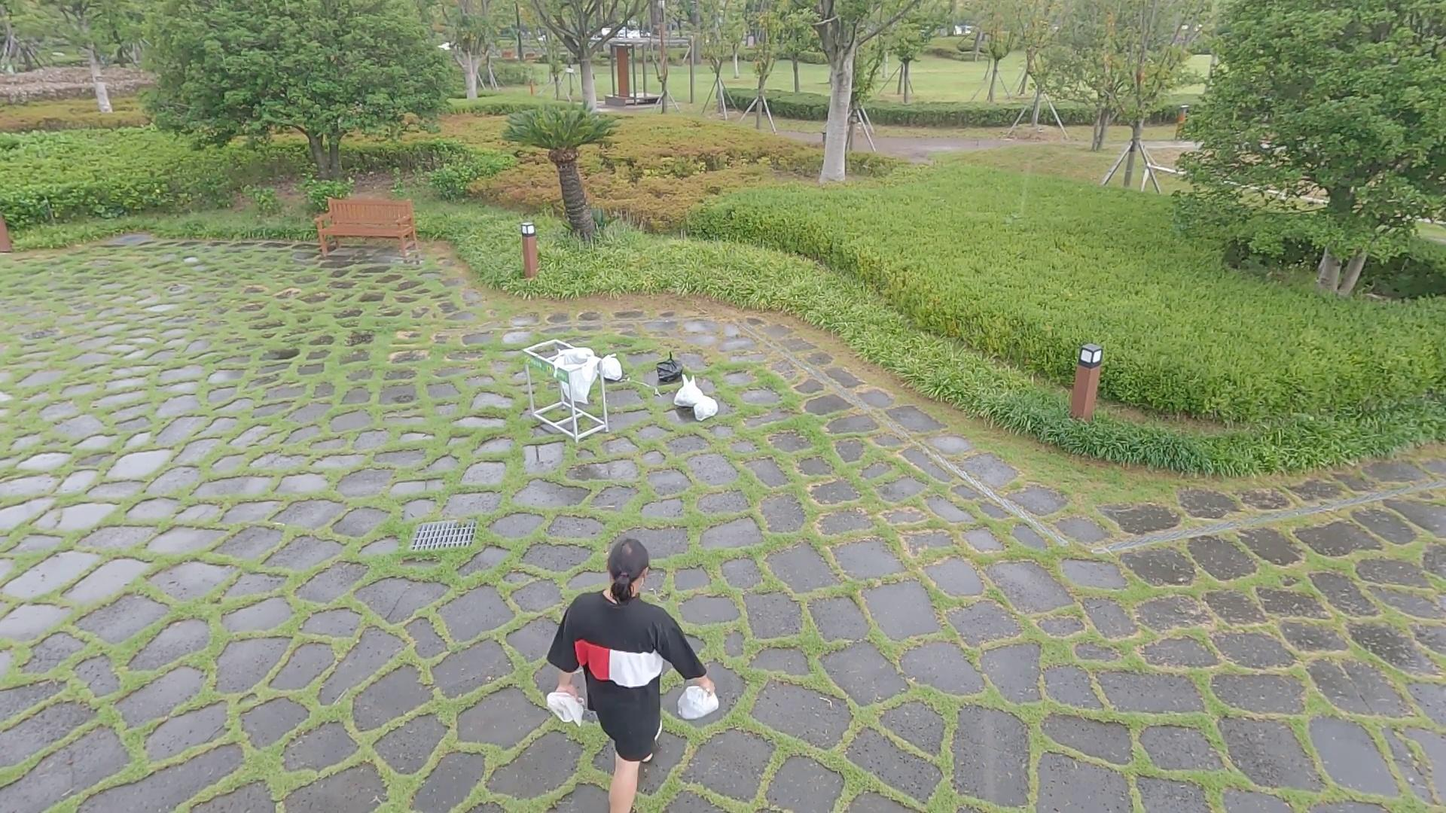person: (539, 533, 723, 813)
trash: (671, 675, 720, 728), (675, 374, 706, 410), (596, 352, 628, 382), (656, 351, 684, 384), (692, 397, 718, 421)
